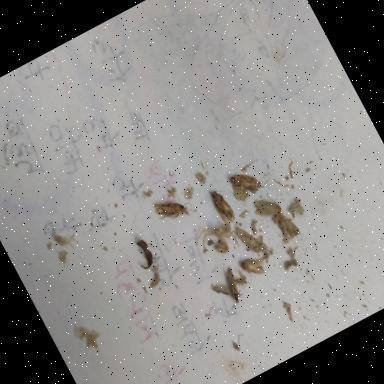pbw: (206, 265, 247, 310), (202, 185, 240, 231), (152, 189, 196, 228), (233, 217, 271, 262), (249, 190, 284, 224), (228, 166, 262, 200), (274, 206, 302, 240), (238, 252, 268, 281)
